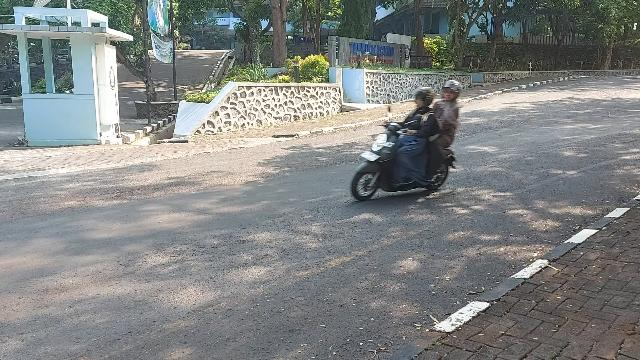helm: (411, 88, 434, 108), (443, 82, 462, 102)
motor: (352, 107, 459, 201)
